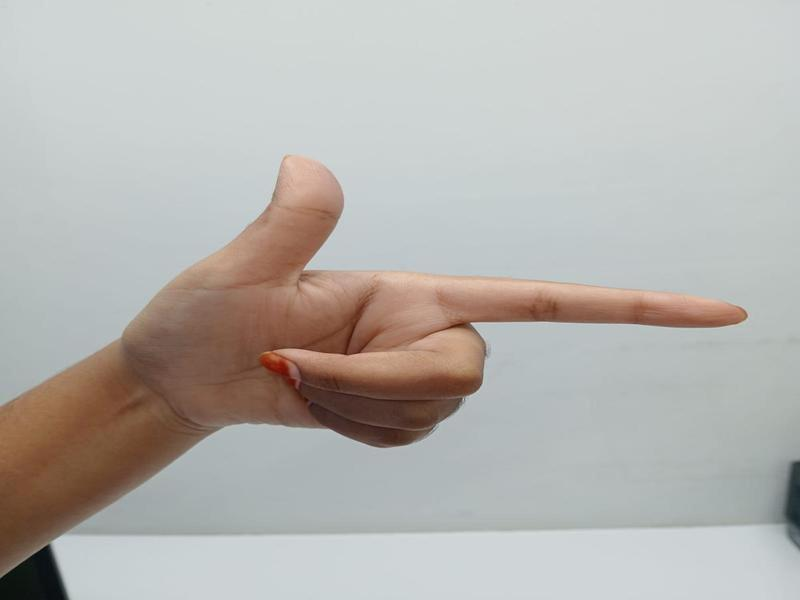FORWARD: (1, 132, 754, 600)
